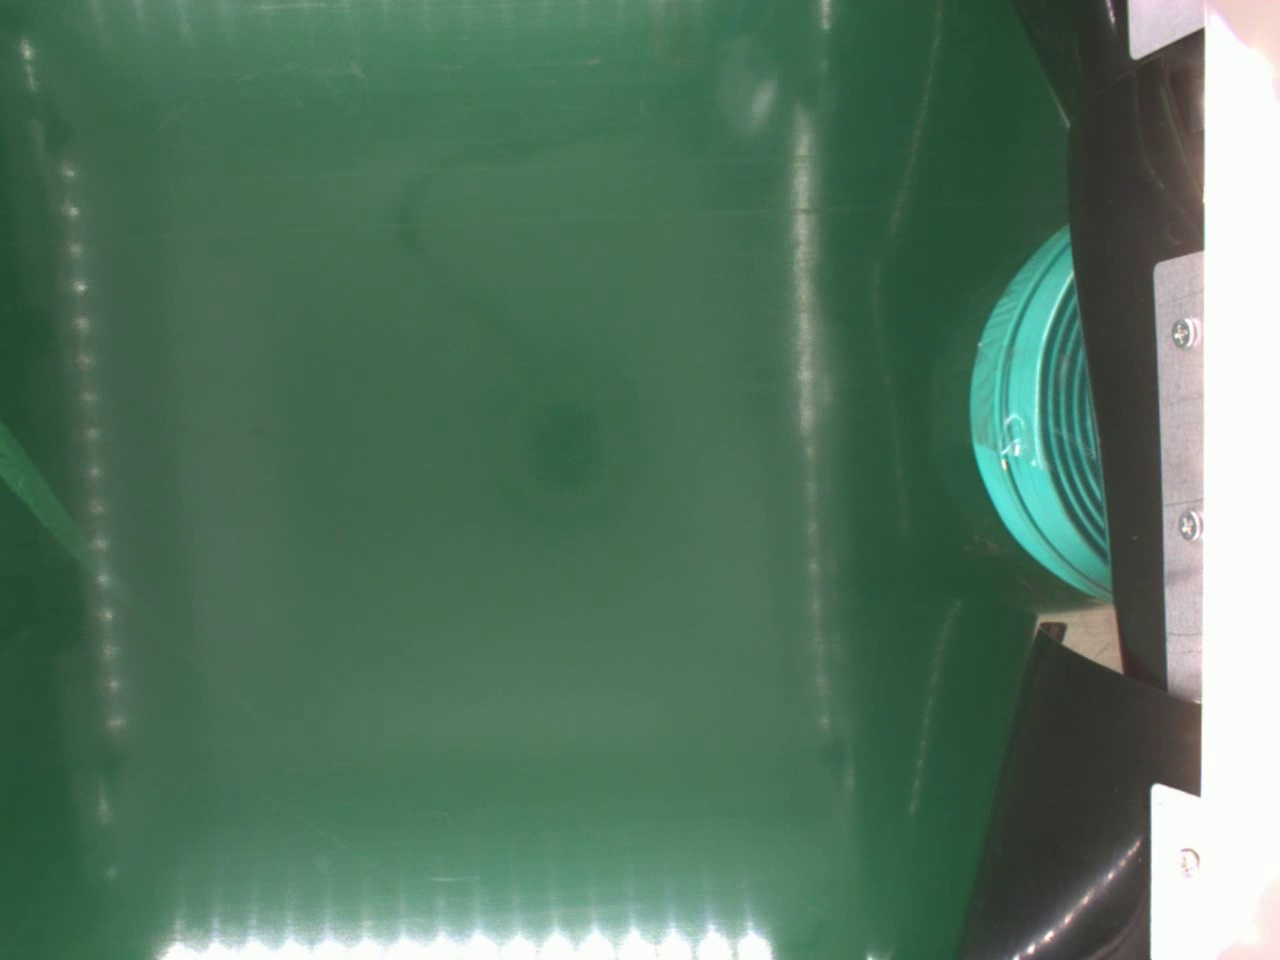green: (966, 219, 1112, 608)
